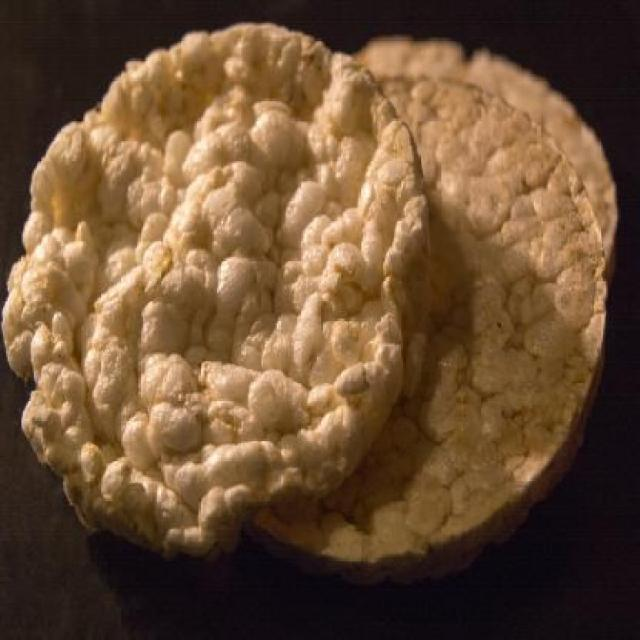Gallette di riso packaged: (6, 21, 626, 572)
